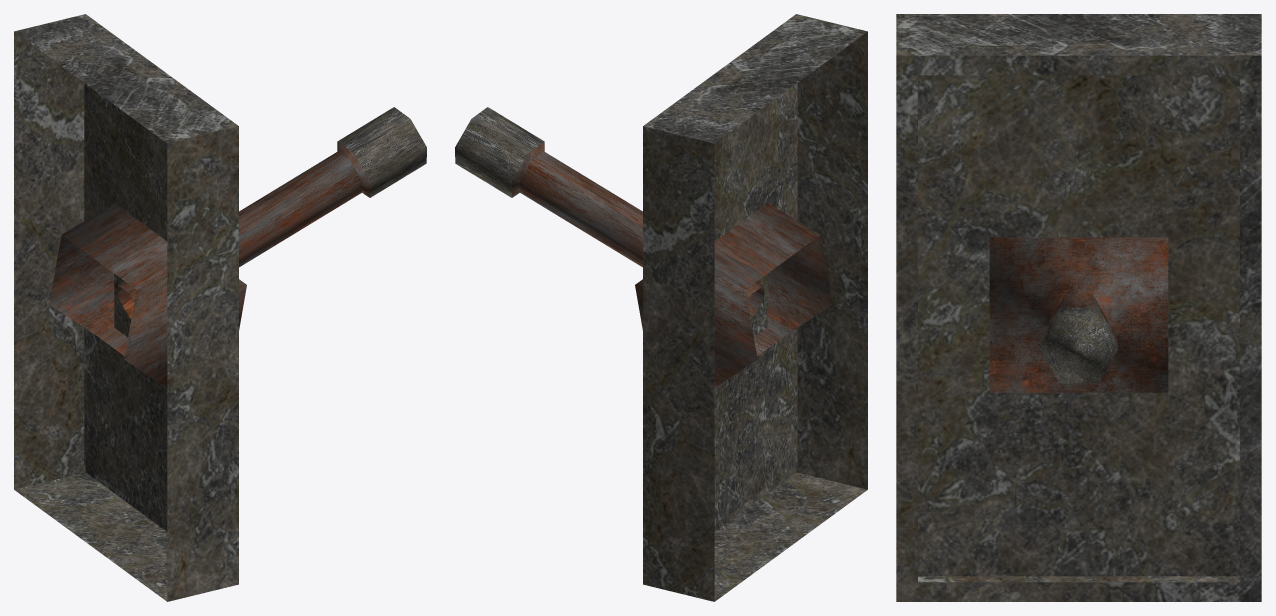
The model's file is lever_anim6.obj.
3 views of the same model, side by side, from view 1: azimuth 30°, elevation 25°; view 2: azimuth 150°, elevation 25°; view 3: azimuth 270°, elevation 25° (orthographic). The views are drawn at different scales.
Parts seen in each view (by area): view 1: Cube, Cylinder; view 2: Cube, Cylinder; view 3: Cube, Cylinder.
Part boxes in pixels (<box>): Cube: <box>14,14,238,601</box>; Cylinder: <box>49,107,426,387</box>; Cube: <box>643,14,867,601</box>; Cylinder: <box>455,107,832,387</box>; Cube: <box>896,14,1261,601</box>; Cylinder: <box>989,237,1168,392</box>.
Bounding box in the file's own units: 1.52 × 2 × 1.21.
Materials: 2 (2 with a texture image).
